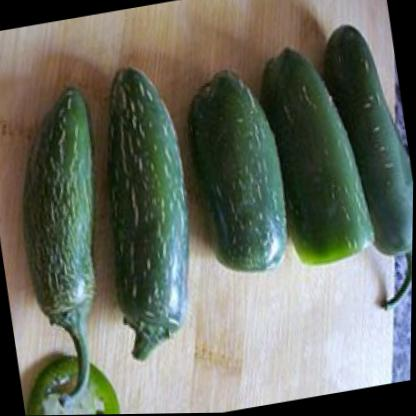--: (79, 52, 220, 377), (0, 75, 134, 416), (320, 8, 416, 316)
